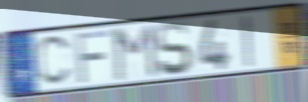4: (197, 17, 232, 73)
C: (35, 33, 73, 88)
F: (73, 28, 113, 85)
I: (240, 14, 257, 70)
M: (112, 22, 159, 83)
S: (153, 20, 195, 78)
